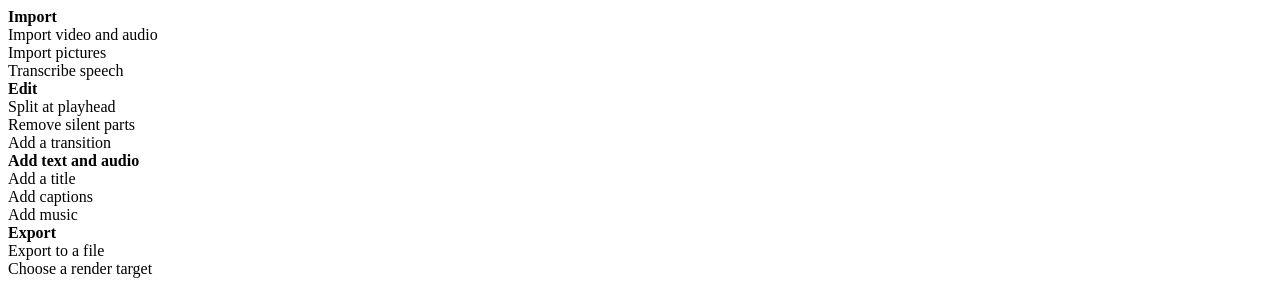
Test case: TasksPanel › 見出しを押すとグループを閉じて、もう一度で開く
The image size is (1280, 295).
Click the button with class "mm-tasks-toggle" showing "Import".
click(32, 16)  # box [8, 8, 1272, 26]
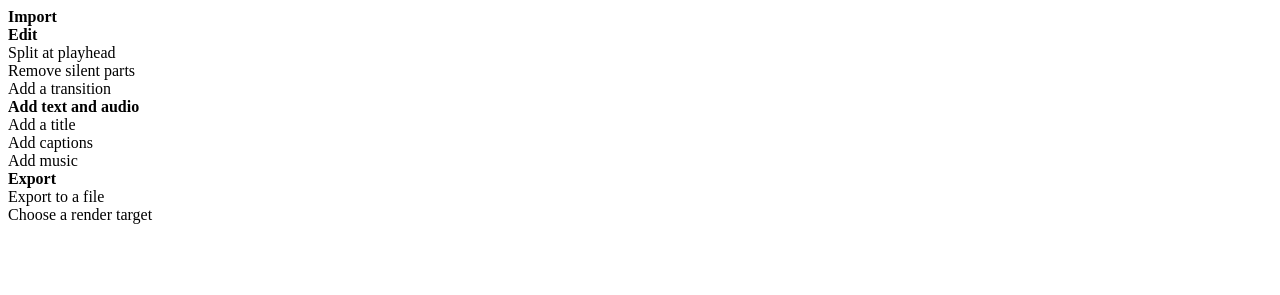
Expected: the number of buttons with class "mm-tasks-link" is 8
Click the button with class "mm-tasks-toggle" showing "Import".
click(32, 16)  # box [8, 8, 1272, 26]
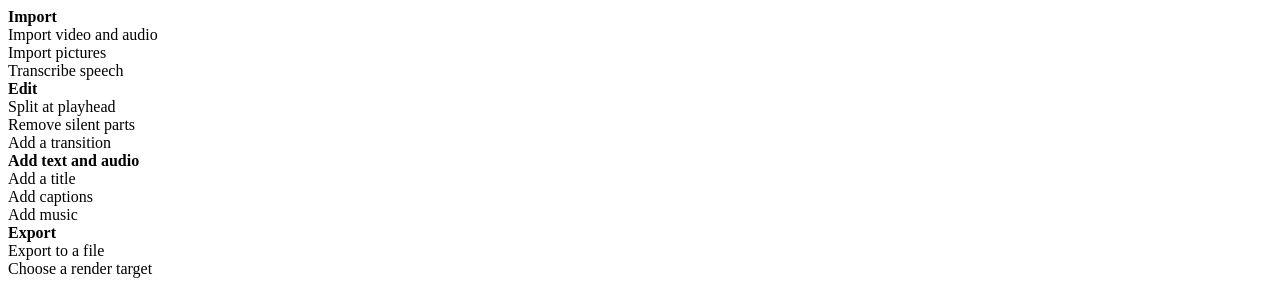
Expected: the number of buttons with class "mm-tasks-link" is 11
